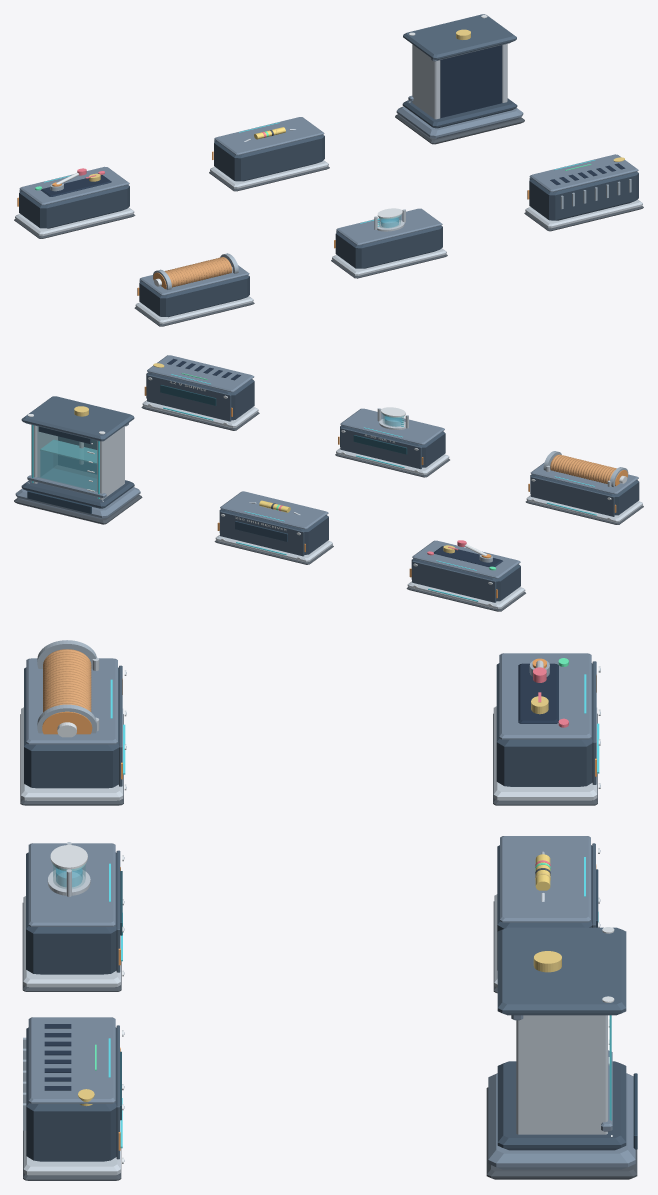
Rendered from Level40_Fitted_Assembly.fbx.
3 renders of one model, top to bottom at view 1: azimuth 30°, elevation 25°; view 2: azimuth 150°, elevation 25°; view 3: azimuth 270°, elevation 25°, orthographic. The views are drawn at different scales.
Visible parts, largest first — view 1: L40_Tank_Static__void, L40_Supply_Static__graphite, L40_Receiver_Static__graphite, L40_Tank_Static__deep_steel, L40_Line_Static__graphite, L40_Transmitter_Static__graphite, L40_Cable_Static__graphite, L40_Tank_Static__titanium, L40_Receiver_Static__mid_steel, L40_Supply_Static__mid_steel, L40_Transmitter_Static__mid_steel, L40_Tank_Static__mid_steel (+11 smaller); view 2: L40_Tank_Static__glass, L40_Tank_Static__deep_steel, L40_Tank_Static__titanium, L40_Receiver_Static__mid_steel, L40_Supply_Static__deep_steel, L40_Line_Static__deep_steel, L40_Supply_Static__mid_steel, L40_Cable_Static__deep_steel, L40_Receiver_Static__deep_steel, L40_Transmitter_Static__mid_steel, L40_Transmitter_Static__deep_steel, L40_Tank_Water__water (+25 smaller); view 3: L40_Tank_Static__titanium, L40_Tank_Static__deep_steel, L40_Receiver_Static__mid_steel, L40_Supply_Static__mid_steel, L40_Transmitter_Static__mid_steel, L40_Supply_Static__graphite, L40_Line_Static__mid_steel, L40_Line_Static__graphite, L40_Tank_Static__mid_steel, L40_Transmitter_Static__graphite, L40_Tank_Static__graphite, L40_Cable_Static__graphite (+14 smaller).
Boxes of the visible parts, box(x1,y1,x2,y2) form: L40_Tank_Static__void: box(440, 45, 502, 118); L40_Supply_Static__graphite: box(529, 172, 638, 220); L40_Receiver_Static__graphite: box(214, 135, 324, 181); L40_Tank_Static__deep_steel: box(403, 14, 516, 60); L40_Line_Static__graphite: box(19, 185, 129, 228); L40_Transmitter_Static__graphite: box(335, 225, 442, 268); L40_Cable_Static__graphite: box(139, 275, 249, 317); L40_Tank_Static__titanium: box(412, 44, 507, 119); L40_Receiver_Static__mid_steel: box(214, 117, 324, 155); L40_Supply_Static__mid_steel: box(529, 154, 638, 192); L40_Transmitter_Static__mid_steel: box(336, 208, 442, 245); L40_Tank_Static__mid_steel: box(396, 42, 523, 138); L40_Tank_Static__glass: box(37, 426, 97, 491); L40_Tank_Static__deep_steel: box(21, 396, 134, 441); L40_Tank_Static__titanium: box(31, 424, 124, 499); L40_Receiver_Static__mid_steel: box(220, 491, 328, 558); L40_Supply_Static__deep_steel: box(147, 374, 231, 421); L40_Line_Static__deep_steel: box(412, 561, 496, 602); L40_Supply_Static__mid_steel: box(147, 355, 254, 424); L40_Cable_Static__deep_steel: box(530, 476, 614, 516); L40_Receiver_Static__deep_steel: box(220, 511, 304, 556); L40_Transmitter_Static__mid_steel: box(340, 408, 444, 471); L40_Transmitter_Static__deep_steel: box(340, 427, 421, 469); L40_Tank_Water__water: box(40, 451, 96, 490); L40_Tank_Static__titanium: box(516, 1015, 607, 1134); L40_Tank_Static__deep_steel: box(497, 927, 626, 1015); L40_Receiver_Static__mid_steel: box(500, 836, 600, 925); L40_Supply_Static__mid_steel: box(28, 1017, 124, 1161); L40_Transmitter_Static__mid_steel: box(28, 843, 124, 974); L40_Supply_Static__graphite: box(26, 1027, 116, 1161); L40_Line_Static__mid_steel: box(499, 653, 600, 786); L40_Line_Static__graphite: box(496, 663, 592, 786); L40_Tank_Static__mid_steel: box(488, 1015, 635, 1169); L40_Transmitter_Static__graphite: box(26, 852, 116, 974); L40_Tank_Static__graphite: box(497, 1061, 626, 1150); L40_Cable_Static__graphite: box(24, 667, 118, 788).
Size of the model in its own units: 167 by 29.8 by 93.25.
